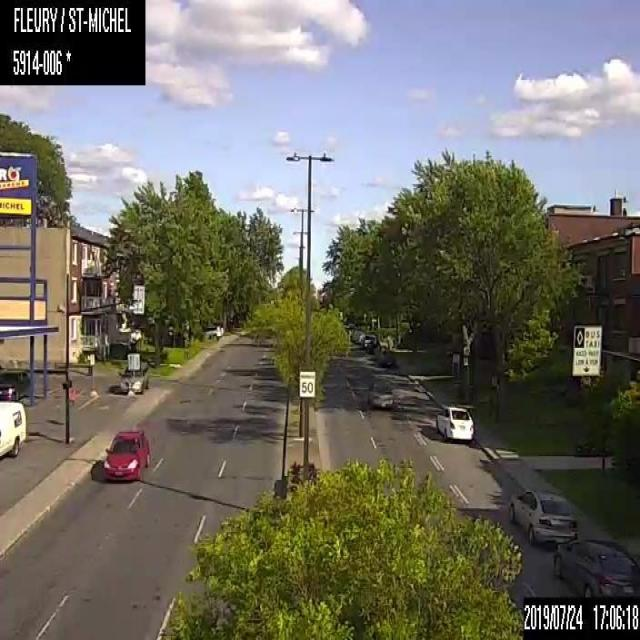vehicle: (553, 535, 639, 597), (508, 488, 576, 544), (101, 428, 151, 479), (0, 399, 27, 463), (434, 404, 474, 440), (0, 365, 30, 403), (119, 360, 150, 392), (365, 380, 392, 409), (376, 345, 398, 369), (200, 323, 224, 340), (359, 332, 378, 349)
